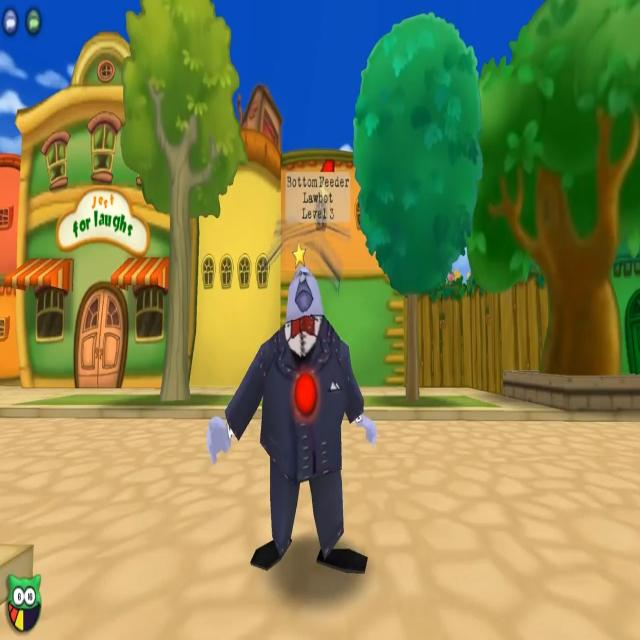bottomfeeder: (222, 172, 368, 576)
